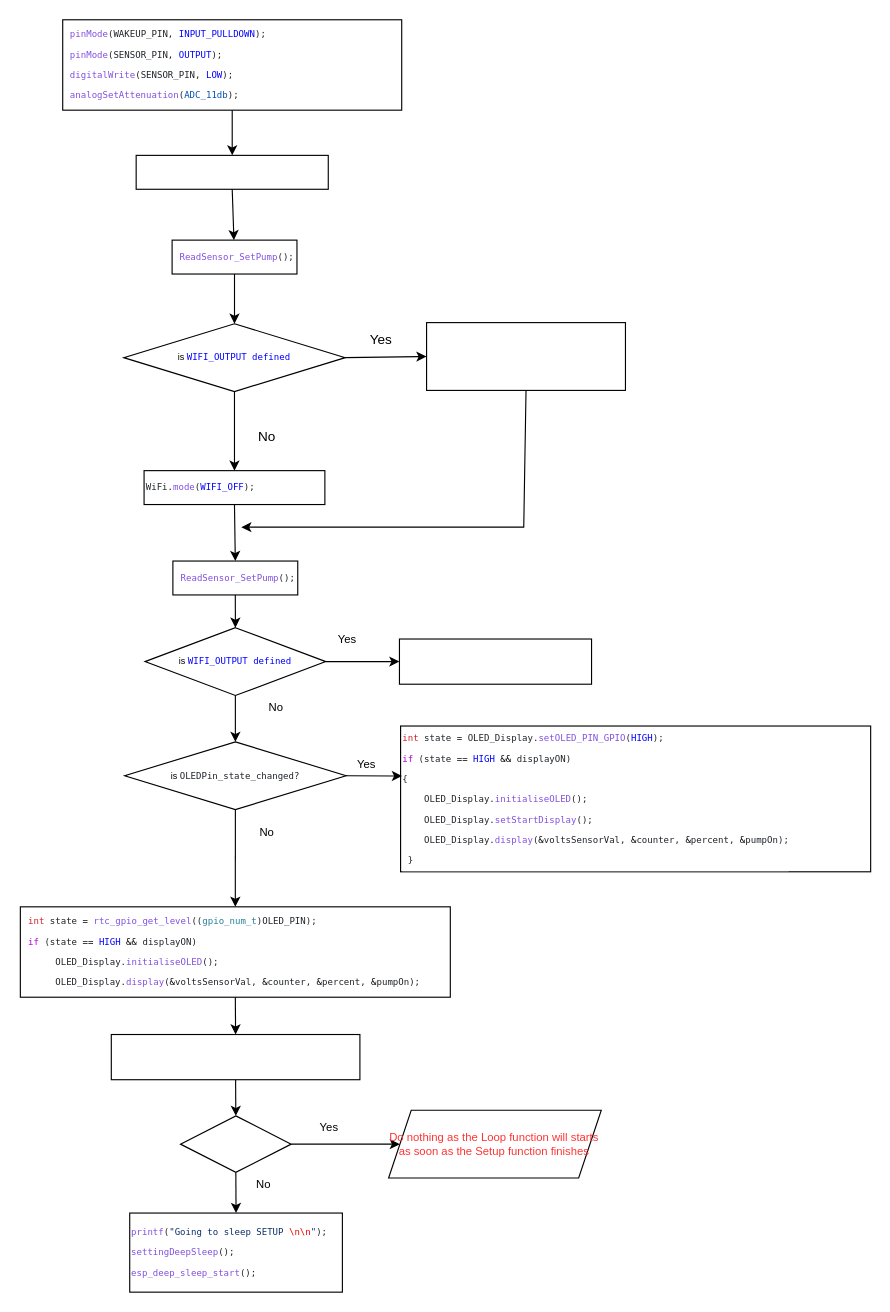
This 890x1312 diagram has some shape labels left out. The shapes that lost their labels are listed below. From the top down, each one's box as (x1, y1, x2, y2) in pixels, then its label:
(135, 154, 328, 189): checkWakeupReason ();
(425, 321, 625, 390): wifi_Google . setVariablesPrt (...); wifi_Google . initWifi ();
(398, 638, 592, 684): wifi_Google . sendToGoogleSheet ();
(110, 1033, 360, 1080): state = OLED_Display . set_RTC_OLED ( displayON );
(179, 1115, 291, 1172): is pumpOn?
